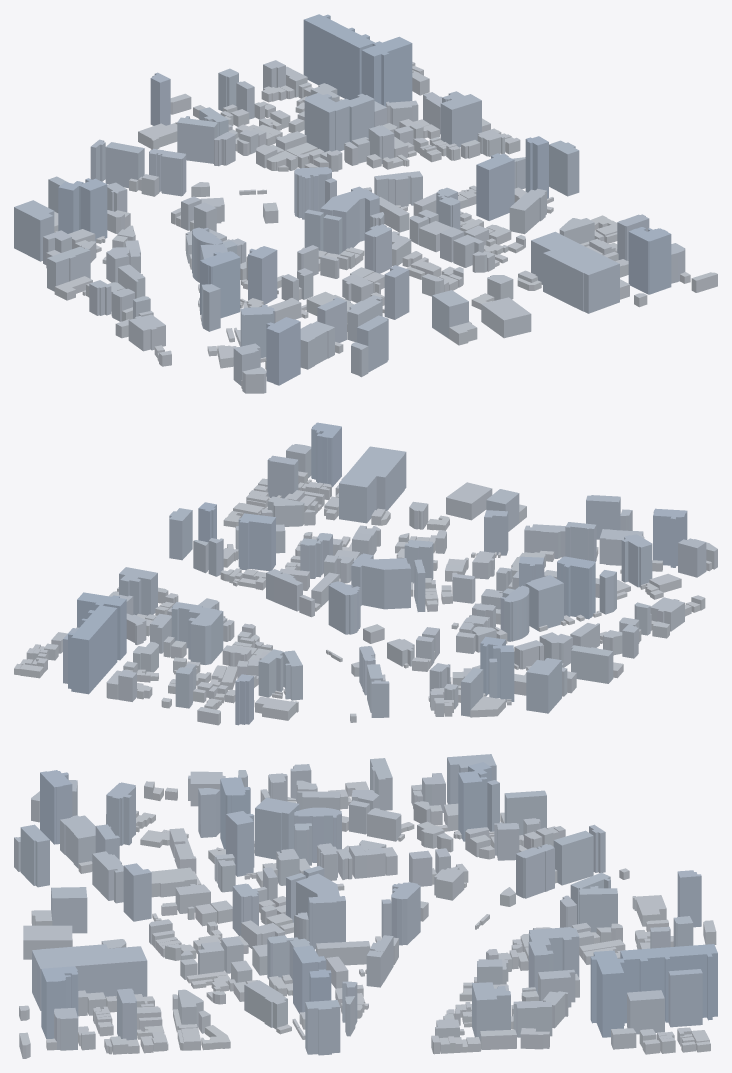
3 views of the same model, one above another, from view 1: azimuth 30°, elevation 25°; view 2: azimuth 150°, elevation 25°; view 3: azimuth 270°, elevation 25° (orthographic). The views are drawn at different scales.
Size of the model in its own units: 458 by 50.41 by 507.
